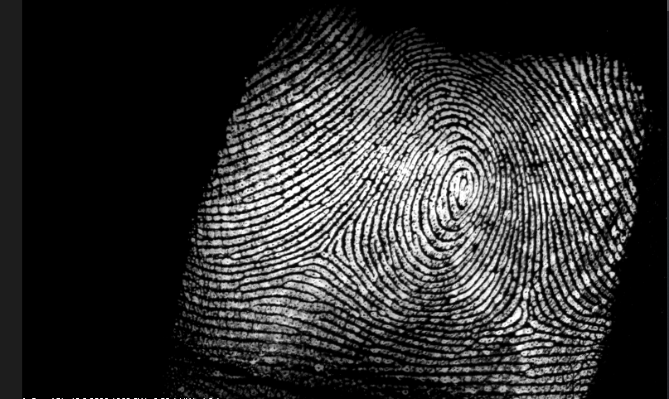nucelo: (444, 167, 477, 206)
verticilo: (510, 303, 541, 335), (309, 238, 342, 265)
